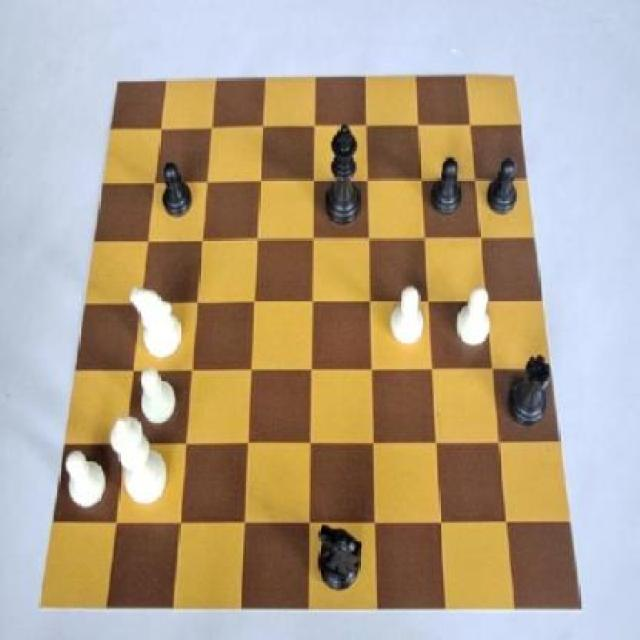black-bishop: (323, 122, 368, 229)
black-king: (317, 517, 363, 598)
black-knight: (480, 148, 518, 224), (154, 158, 196, 224), (426, 156, 465, 224)
black-queen: (503, 351, 559, 434)
white-bishop: (105, 414, 172, 511)
white-king: (131, 285, 190, 366)
white-knight: (383, 282, 432, 354), (134, 366, 189, 427), (449, 284, 498, 350), (65, 448, 110, 509)
